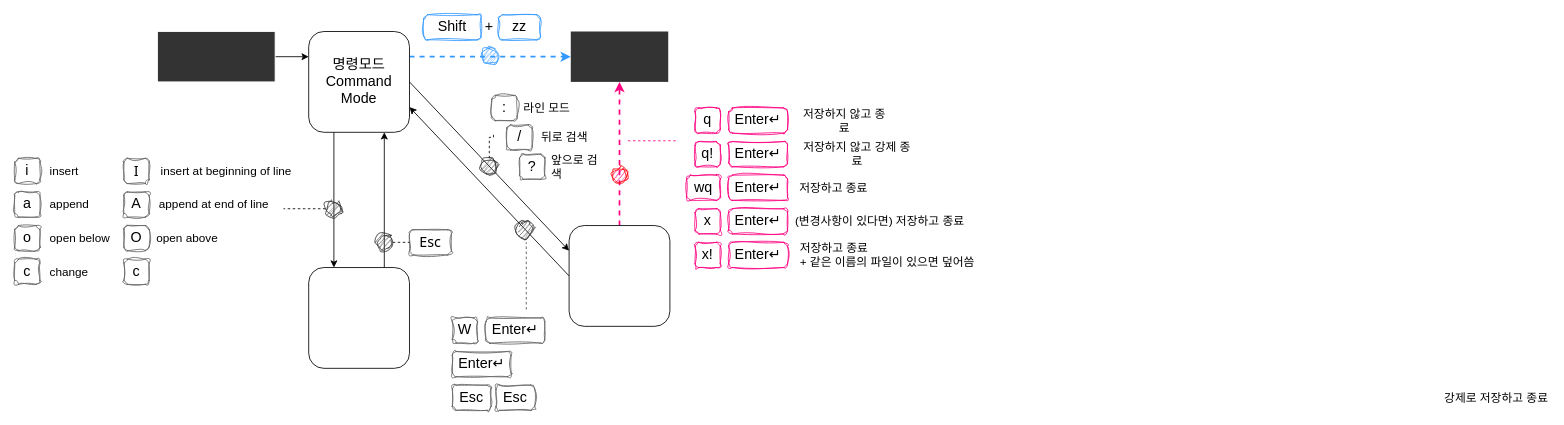
Image size: 1564x425. Some labels were removed from this diagram. Here are the shapes that lost their labels. From the top down, the centre of each, then its label:
At [216,56]: "$ vi [file]".
At [619,56]: "Exit".
At [619,275]: "라인 모드 Ex Command Mode".
At [359,317]: "입력모드 Insert Mode".
